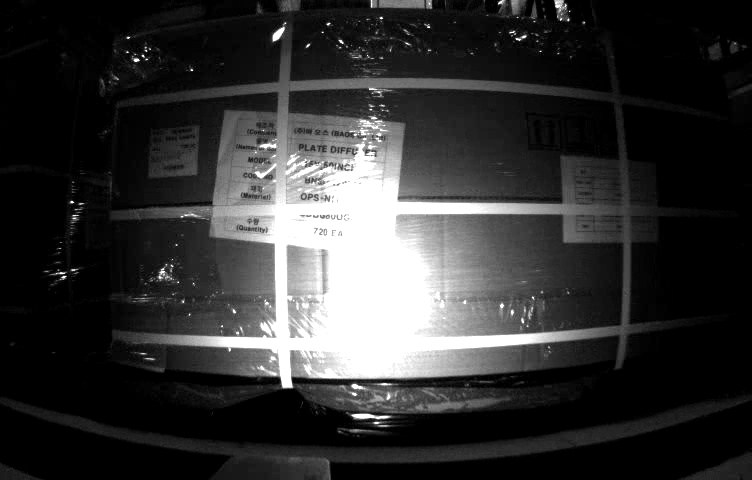True Barcode: (149, 126, 198, 174)
